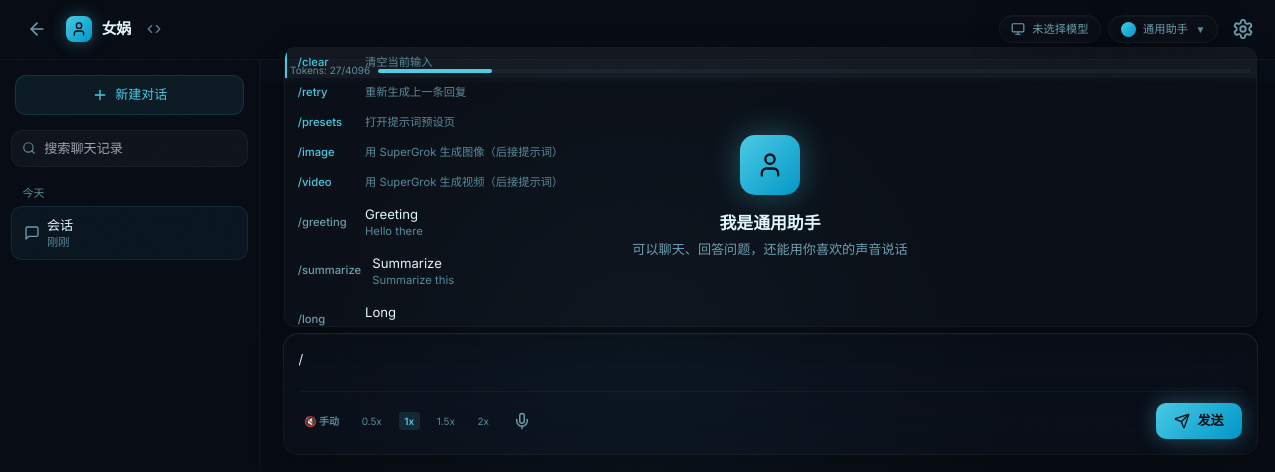
斜杠激活与过滤 (Req 4.1, 4.2) › 输入 "/cl" 过滤到 /clear
The width and height of the screenshot is (1275, 472).
Step 1. Replace the text in the text box with placeholder "输入消息..." with "/cl" → x=770, y=361, box 298,349 -> 1242,373
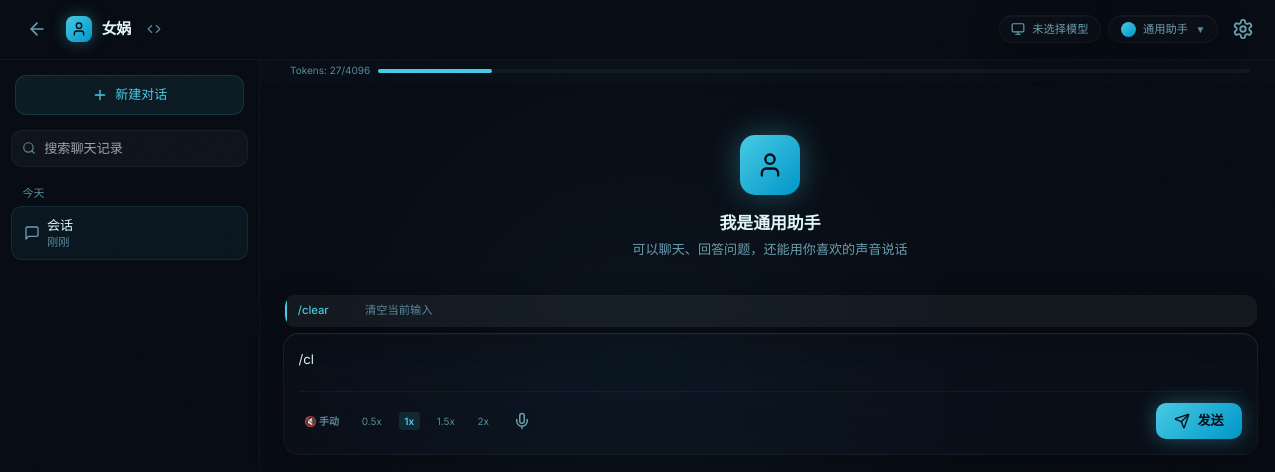
Check: the list with test id "slash-command-menu" shows "/clear", box 284,296 -> 1256,326
Check: the list with test id "slash-command-menu" no longer shows "greeting", box 284,295 -> 1256,327
